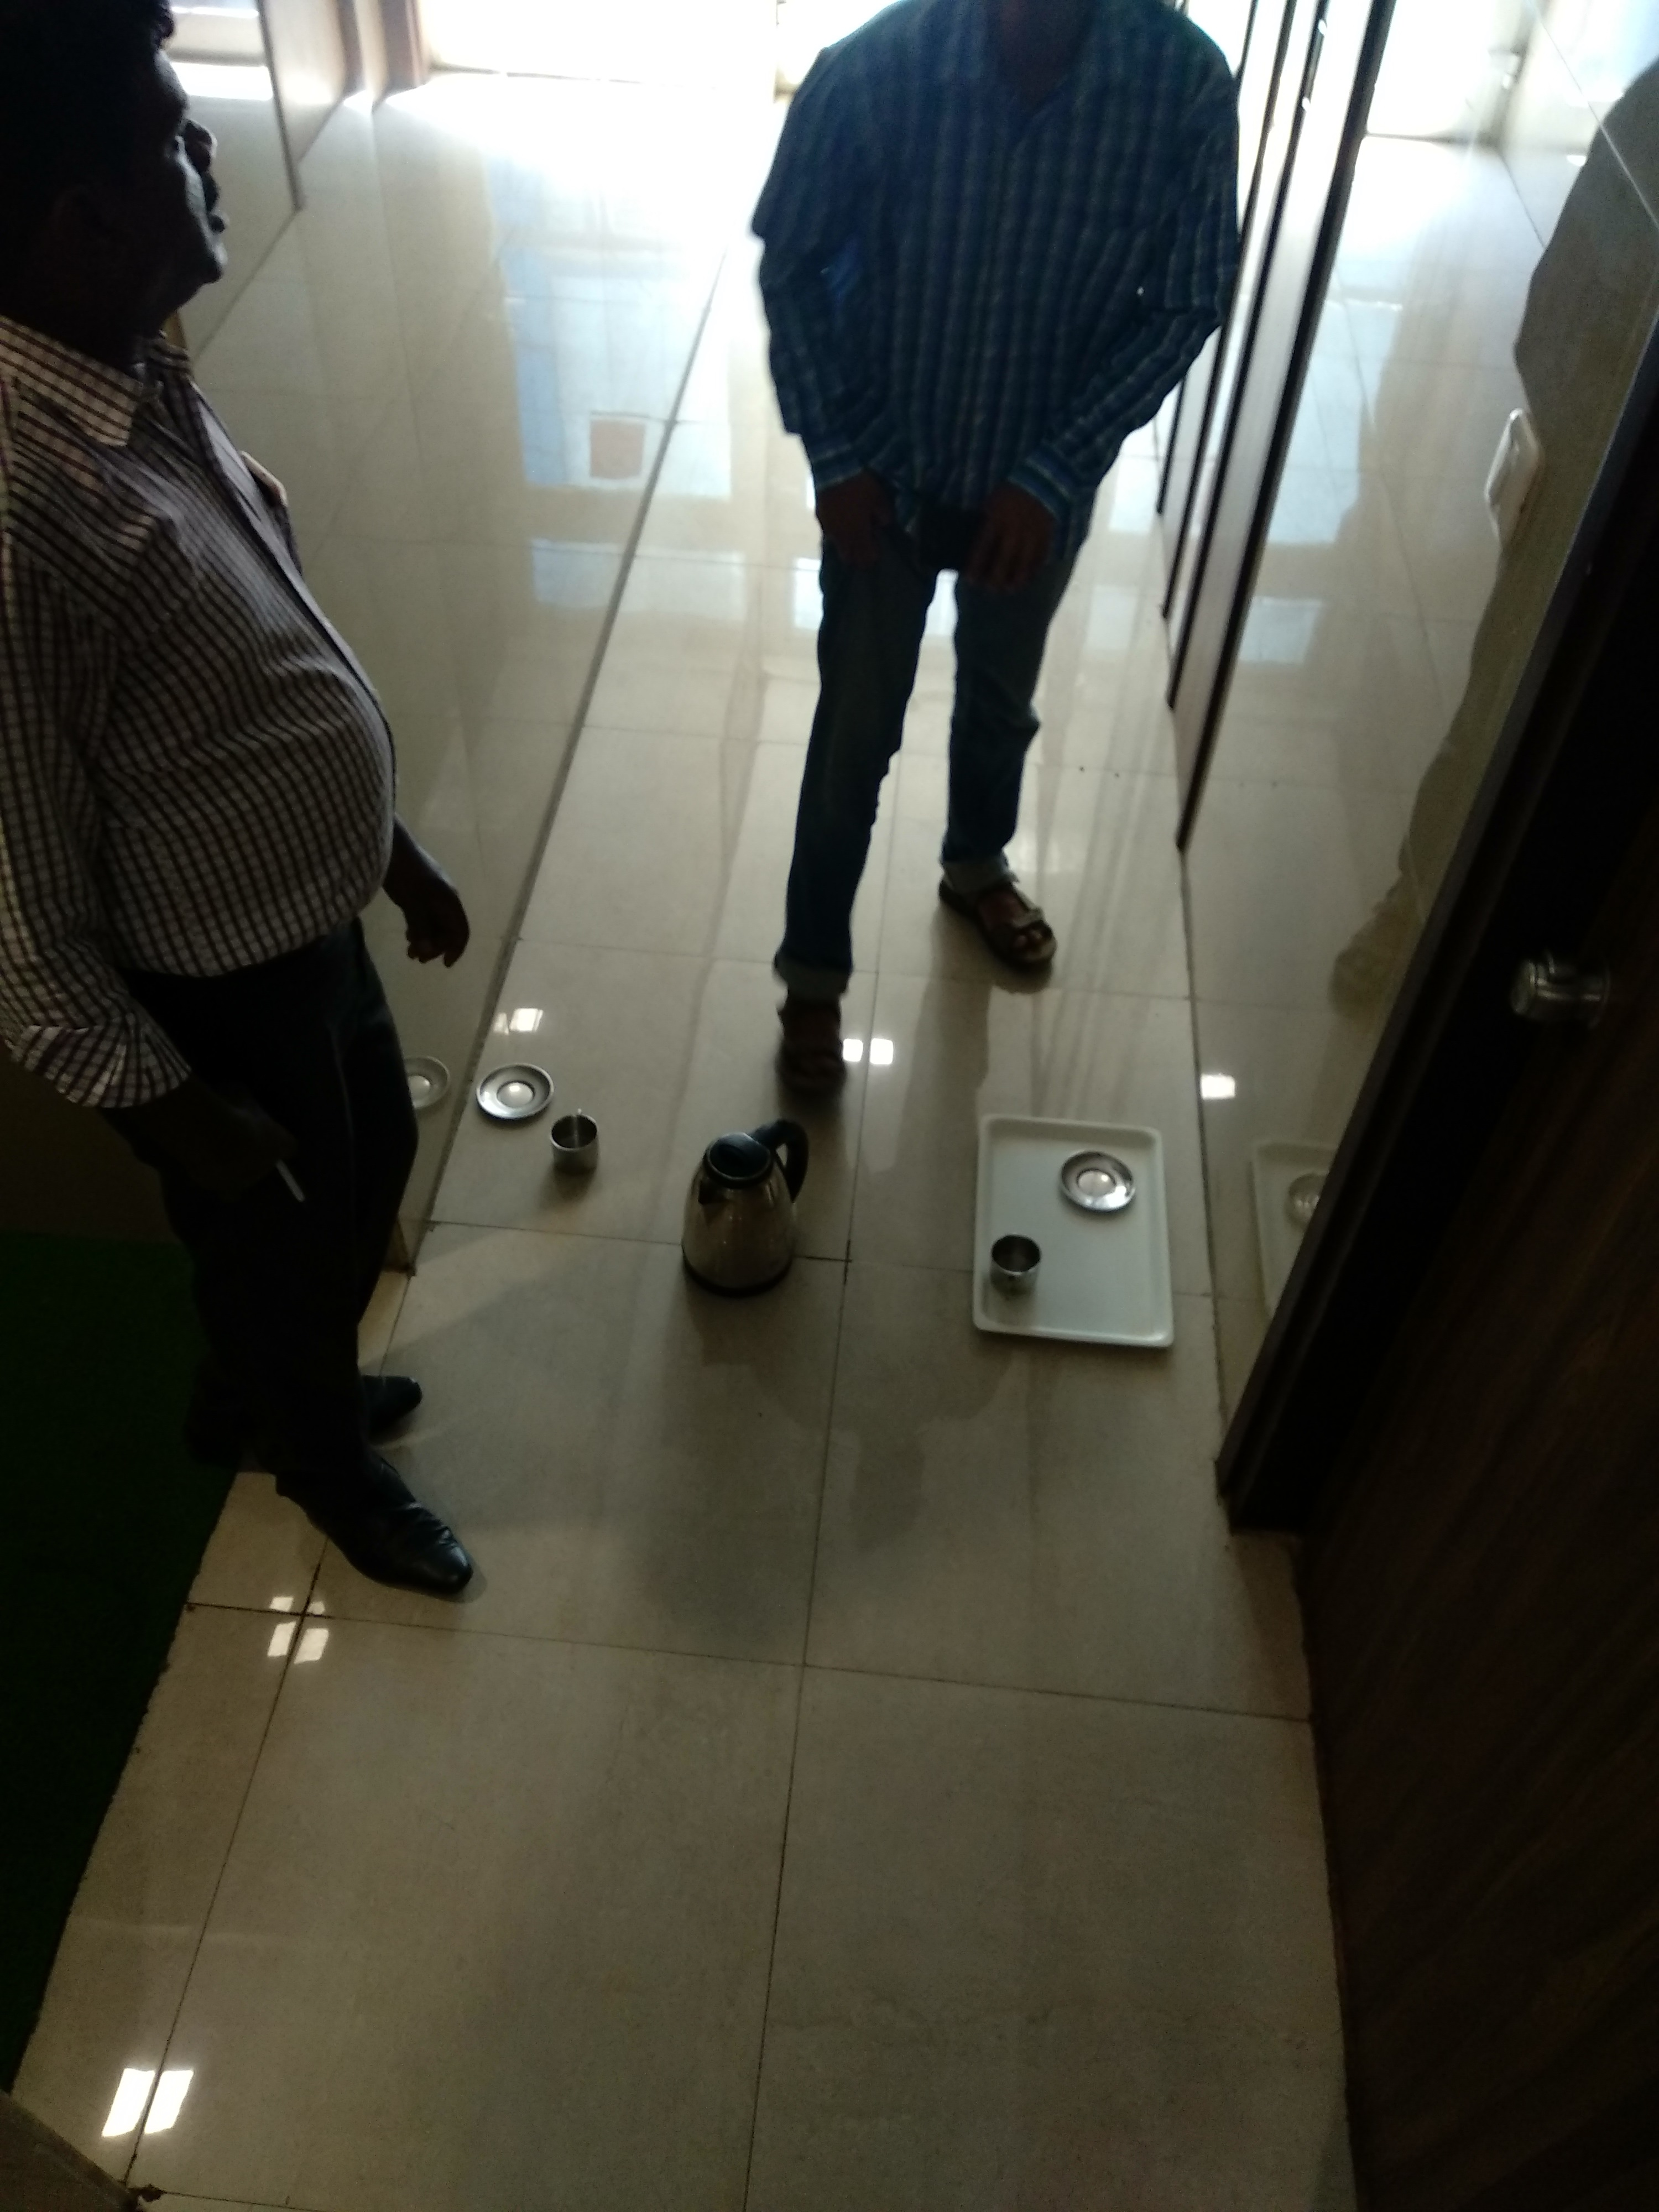CUP: (988, 1242, 1049, 1301), (556, 1113, 605, 1169)
FLASK: (685, 1132, 789, 1298)
